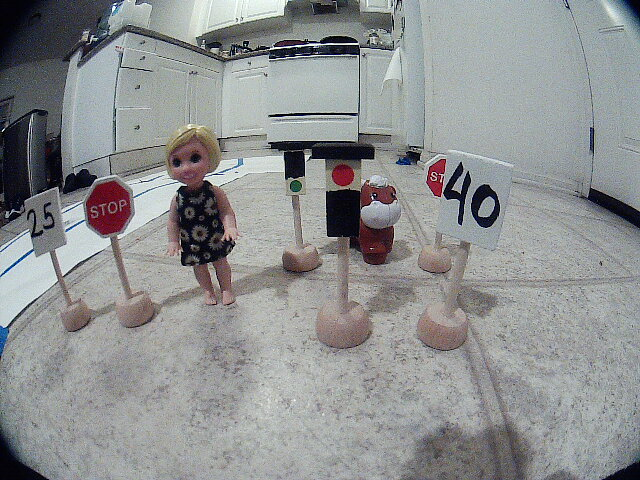Cow: (362, 180, 408, 269)
Green Traffic Light: (276, 139, 320, 205)
Person: (153, 132, 262, 317)
Red Traffic Light: (310, 134, 374, 254)
Speed Limit 25: (14, 195, 80, 262)
Speed Limit 40: (444, 152, 512, 251)
Stop Sign: (75, 176, 146, 243), (428, 151, 446, 193)
